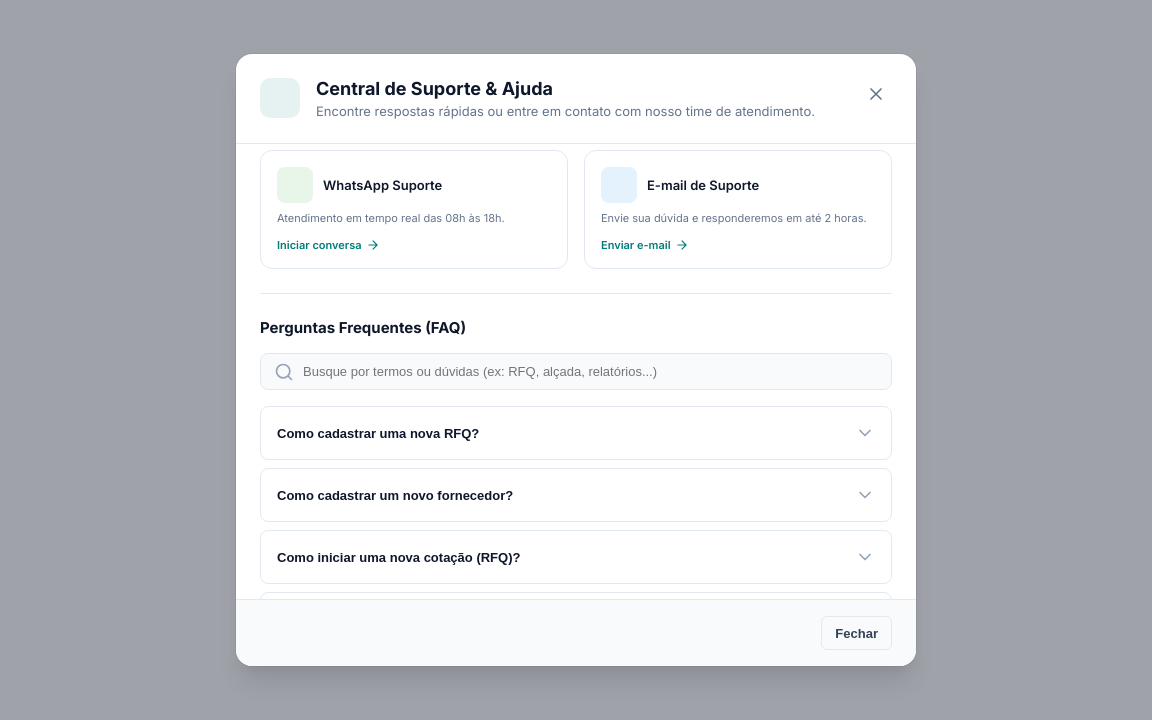
HelpModal Component › deve filtrar perguntas ao digitar no campo de busca
(page scrolled)
Replace the text in the field with placeholder "Busque por termos" with "senha". click: [576, 372]
box: [260, 353, 892, 390]
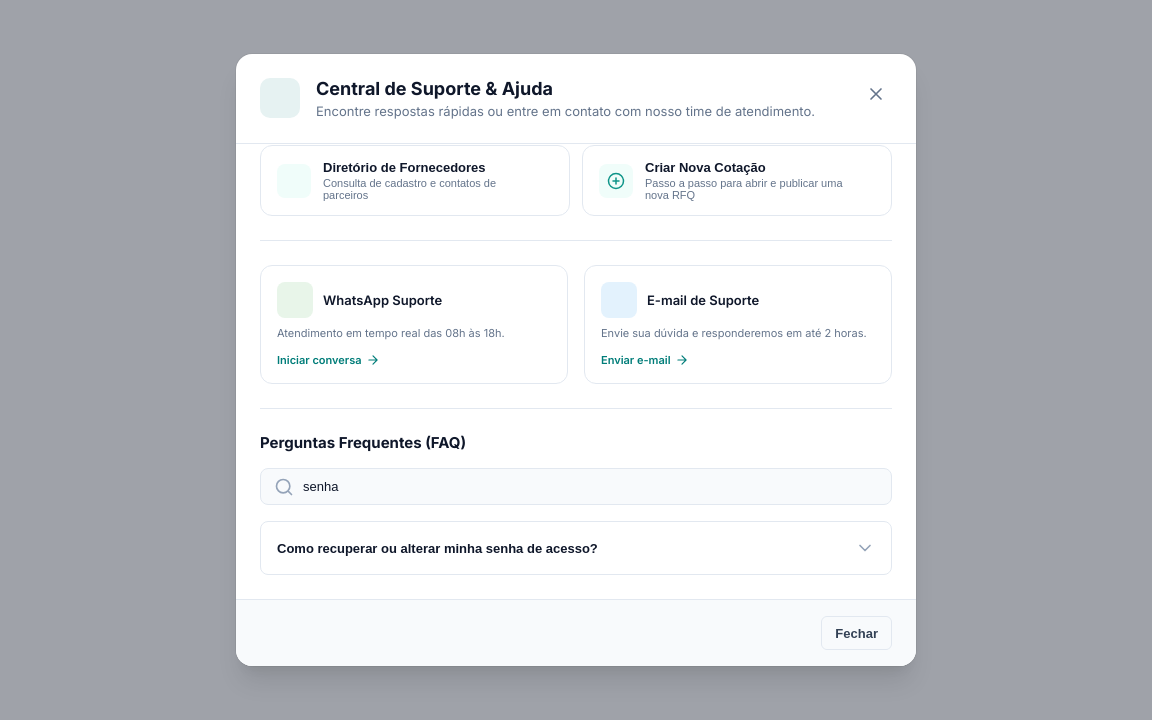
Expected: the text "Como recuperar ou alterar minha senha de acesso?" is shown, [277, 541, 598, 556]
Expected: the button "Como cadastrar uma nova RFQ?" is gone
